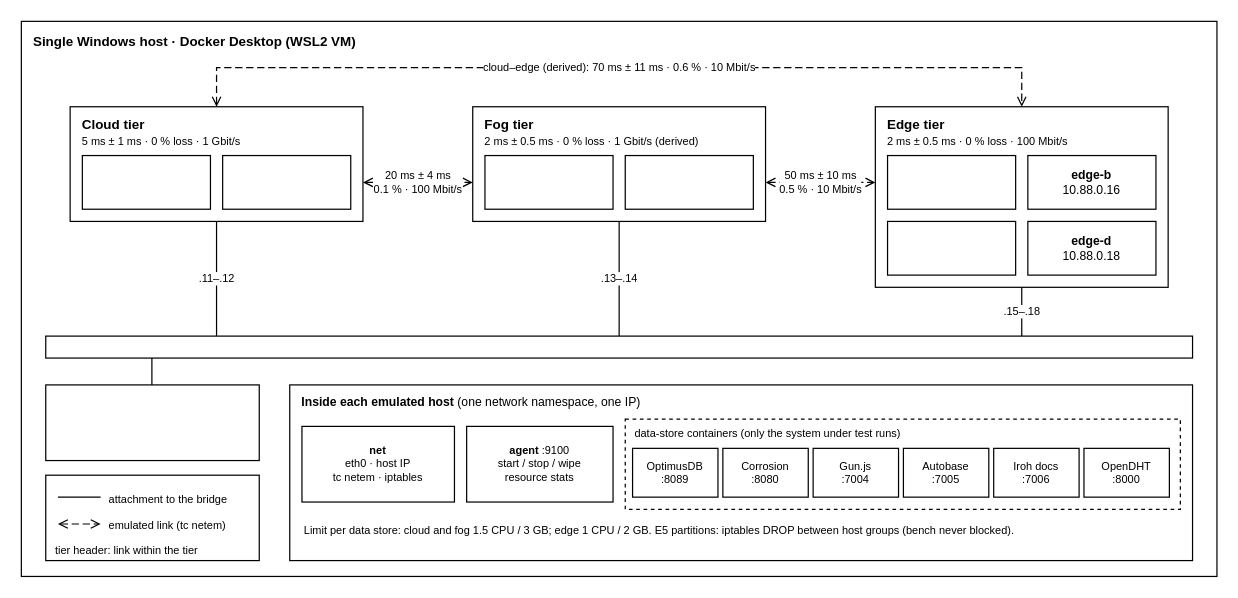
The diagram is 1238 pixels wide and 598 high, and some of its shapes have lost their labels. The centre of each missing label's shape, as x and y in pixels:
bench · 10.88.0.2 load generator, cluster control, netem / partitions, results: the point at 152,422
cloud-a 10.88.0.11: the point at 145,181
cloud-b 10.88.0.12: the point at 286,181
Docker bridge network odbnet · 10.88.0.0/24: the point at 619,346
edge-a 10.88.0.15: the point at 951,181
edge-c 10.88.0.17: the point at 951,247
fog-a 10.88.0.13: the point at 548,181
fog-b 10.88.0.14: the point at 688,181
